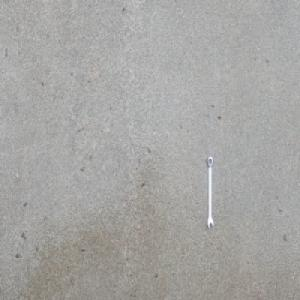Wrench: (206, 153, 214, 230)
